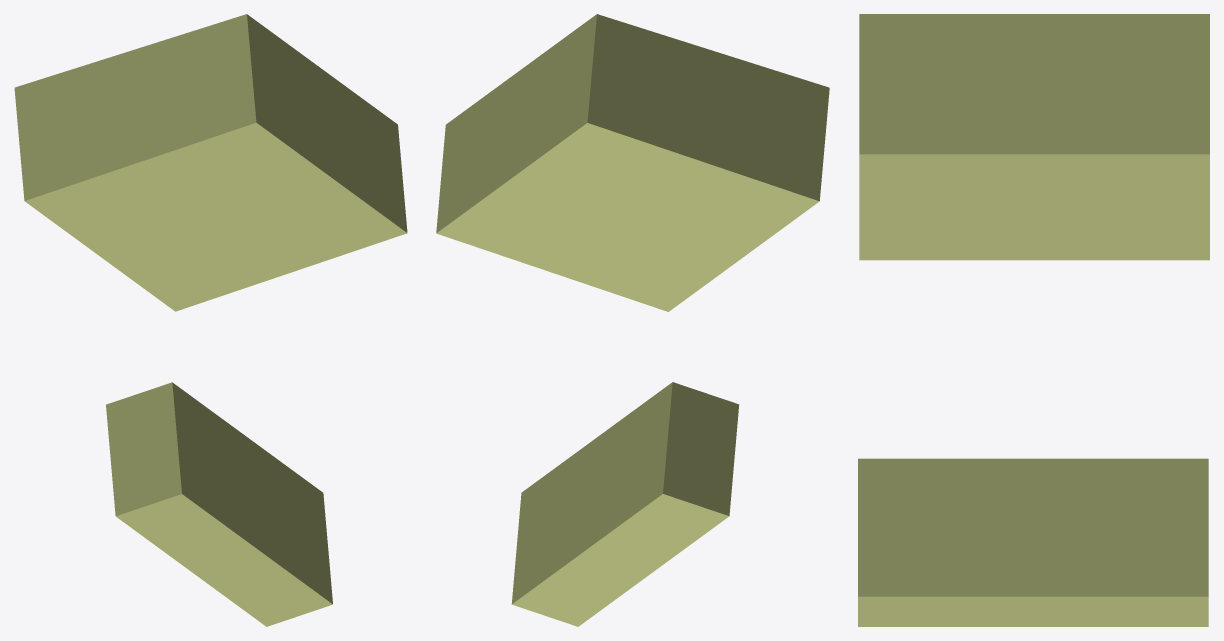
3 views of the same model, side by side, from view 1: azimuth 30°, elevation 25°; view 2: azimuth 150°, elevation 25°; view 3: azimuth 270°, elevation 25° (orthographic). The views are drawn at different scales.
Visible parts, largest first — view 1: 0_2_3_3_3_1_0_3_1_2_0; view 2: 0_2_3_3_3_1_0_3_1_2_0; view 3: 0_2_3_3_3_1_0_3_1_2_0.
Part boxes in pixels (x1=…): 0_2_3_3_3_1_0_3_1_2_0: x1=14, y1=14, x2=407, y2=626; 0_2_3_3_3_1_0_3_1_2_0: x1=436, y1=14, x2=829, y2=626; 0_2_3_3_3_1_0_3_1_2_0: x1=858, y1=14, x2=1209, y2=626.
Bounding box in the file's own units: 5.55 × 10.3 × 6.02.
